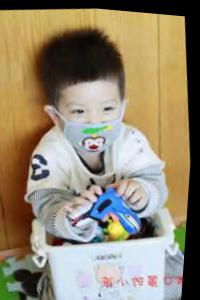WRONG: (62, 86, 129, 159)
